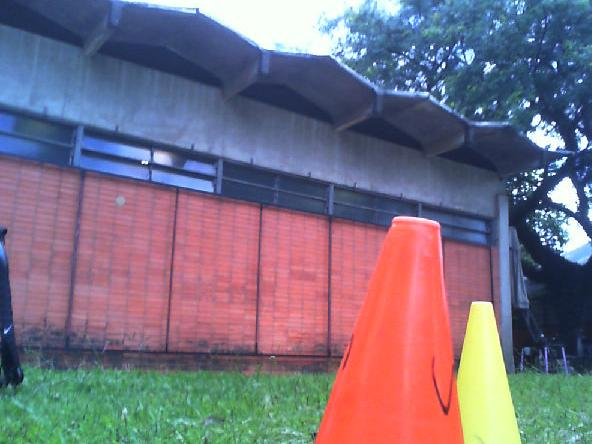0 cone: (305, 216, 466, 444), (457, 301, 526, 444)
